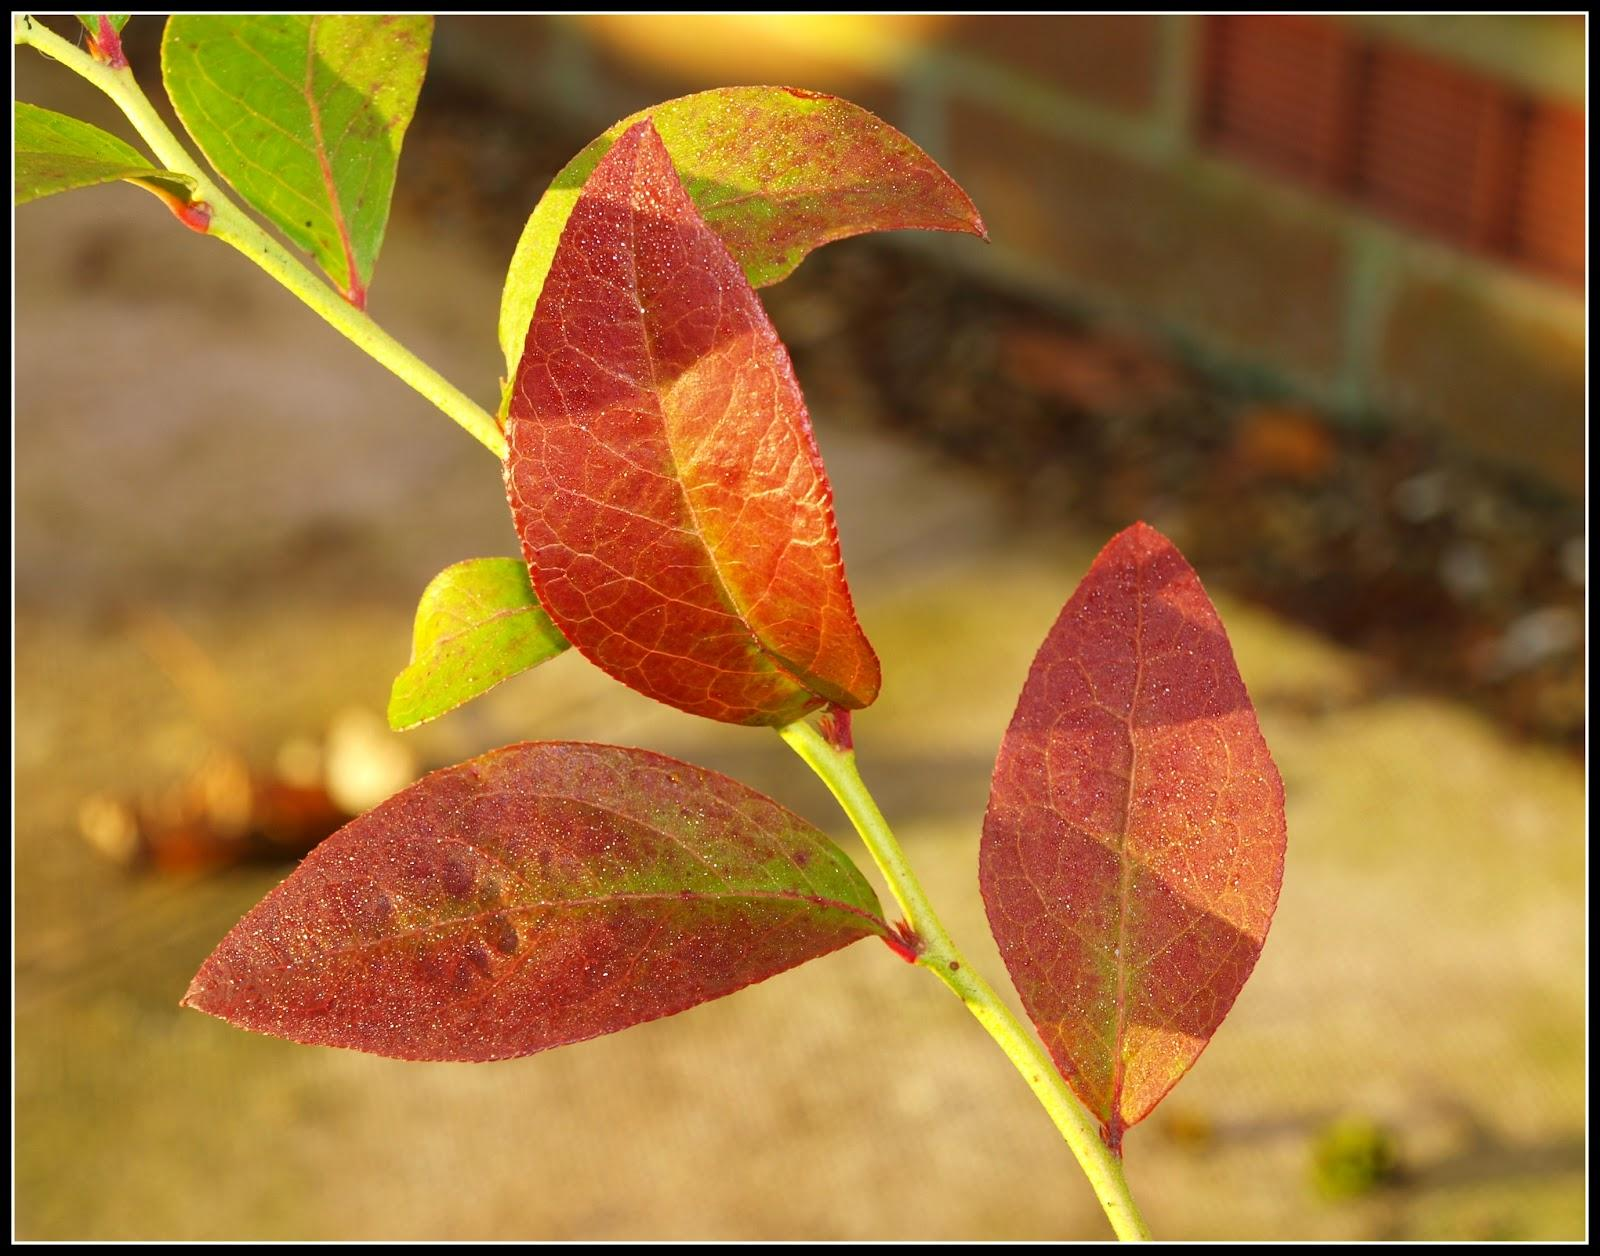Blueberry leaf: (492, 103, 919, 753), (158, 720, 926, 1064), (969, 501, 1301, 1151)
